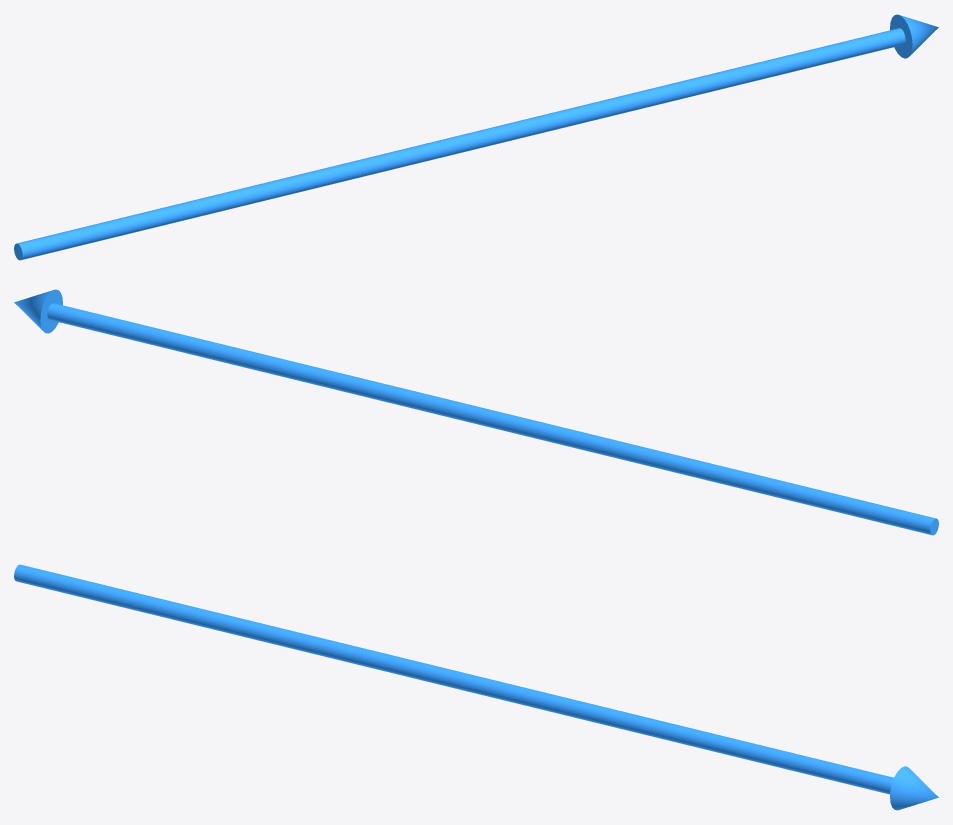
File: sight_glass_flow.glb
The picture shows the model from 3 angles, top to bottom: view 1: azimuth 30°, elevation 25°; view 2: azimuth 150°, elevation 25°; view 3: azimuth 330°, elevation 25°; orthographic projection.
Visible parts, largest first — view 1: flow; view 2: flow; view 3: flow.
Part boxes in pixels (left/top/right/bottom): flow: left=14, top=14, right=938, bottom=260; flow: left=14, top=289, right=938, bottom=535; flow: left=14, top=564, right=938, bottom=810.
Size of the model in its own units: 1.22 by 0.052 by 0.052.
